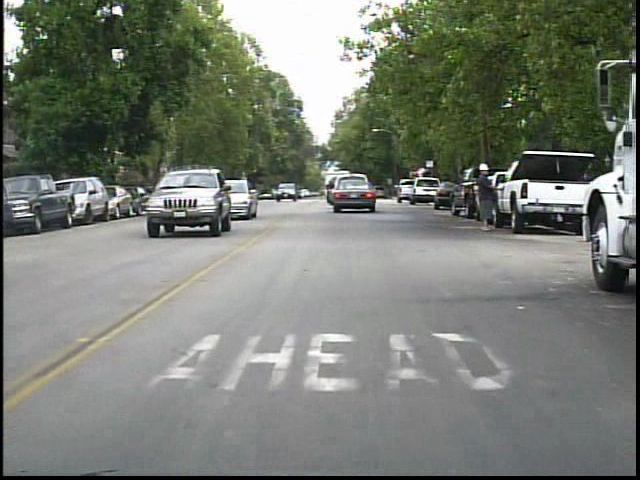person: (471, 160, 503, 236)
